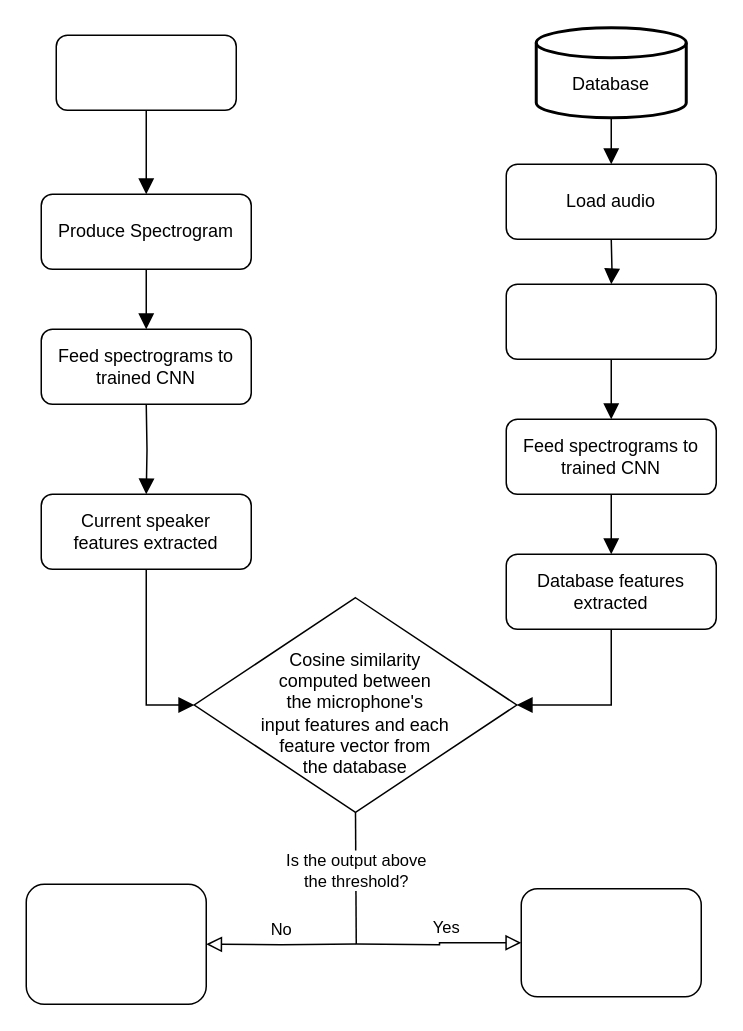
This 743x1031 diagram has some shape labels left out. Each missing label, with the centre of its shape:
Microphone's input recording: [145,72]
Output: Speaker might not be in the database or enviroment is noisy: [115,943]
Output: Speaker's name recognized with similarity shown: [610,942]
Produce spectrograms for each audio: [610,321]
